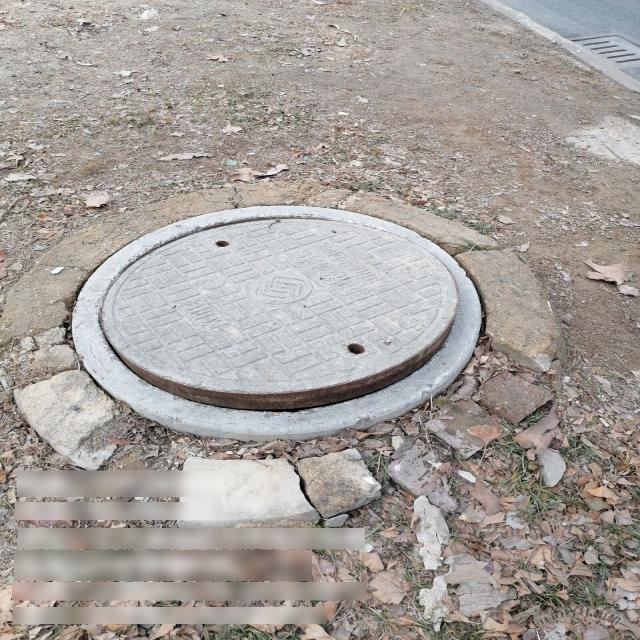Faulty: (70, 203, 486, 439)
